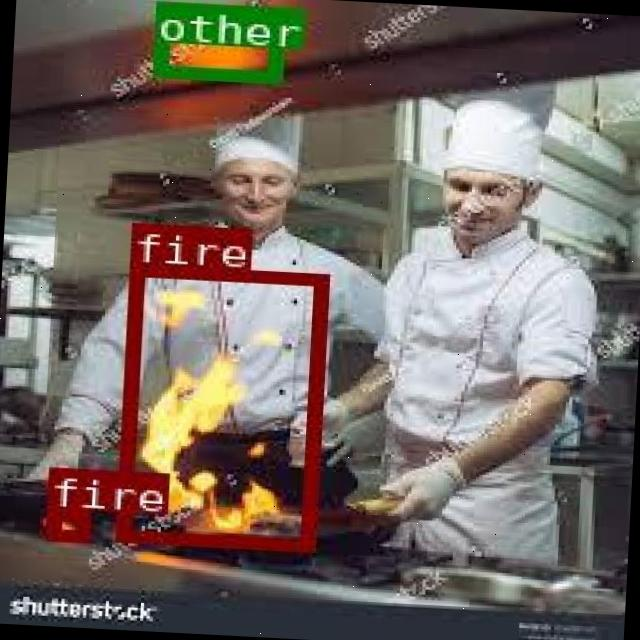fire: (114, 262, 326, 551), (43, 507, 86, 540)
